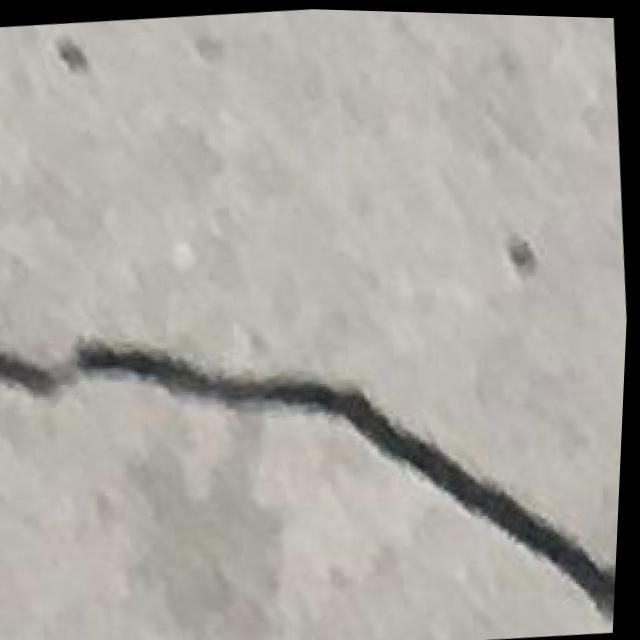Crack: (0, 254, 631, 640)
